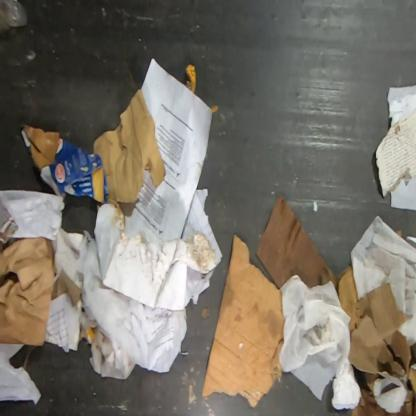cardboard: (92, 89, 218, 311), (201, 234, 286, 408), (338, 263, 415, 415), (254, 193, 339, 298), (20, 123, 110, 205), (395, 229, 403, 238)
rigid_plastic: (0, 0, 28, 34)
